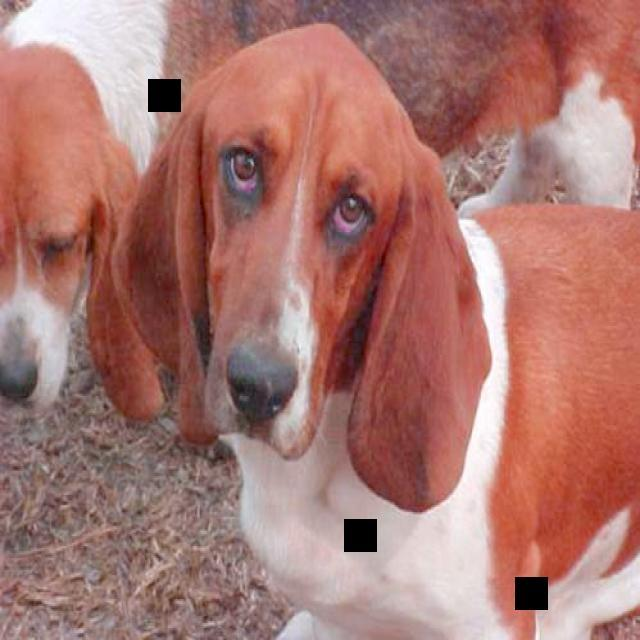adult_dog: (124, 20, 640, 640), (1, 1, 640, 424)
